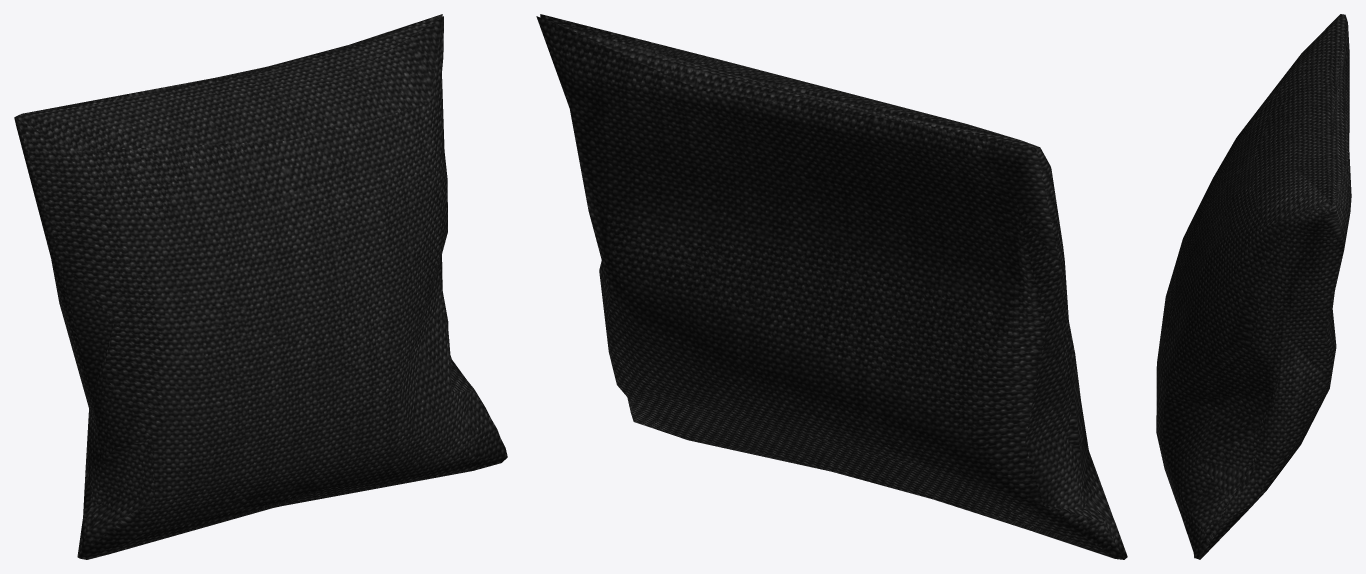
The model's file is Pillow 1.FBX.
3 renders of one model, left to right at view 1: azimuth 30°, elevation 25°; view 2: azimuth 150°, elevation 25°; view 3: azimuth 270°, elevation 25°, orthographic. The views are drawn at different scales.
Visible parts, largest first — view 1: Pillow 1; view 2: Pillow 1; view 3: Pillow 1.
Part boxes in pixels (left/top/right/bottom): Pillow 1: left=14, top=14, right=507, bottom=559; Pillow 1: left=536, top=14, right=1127, bottom=559; Pillow 1: left=1156, top=14, right=1351, bottom=559.
Bounding box in the file's own units: 38.79 × 34.31 × 16.47.
1 material, 1 textured.
